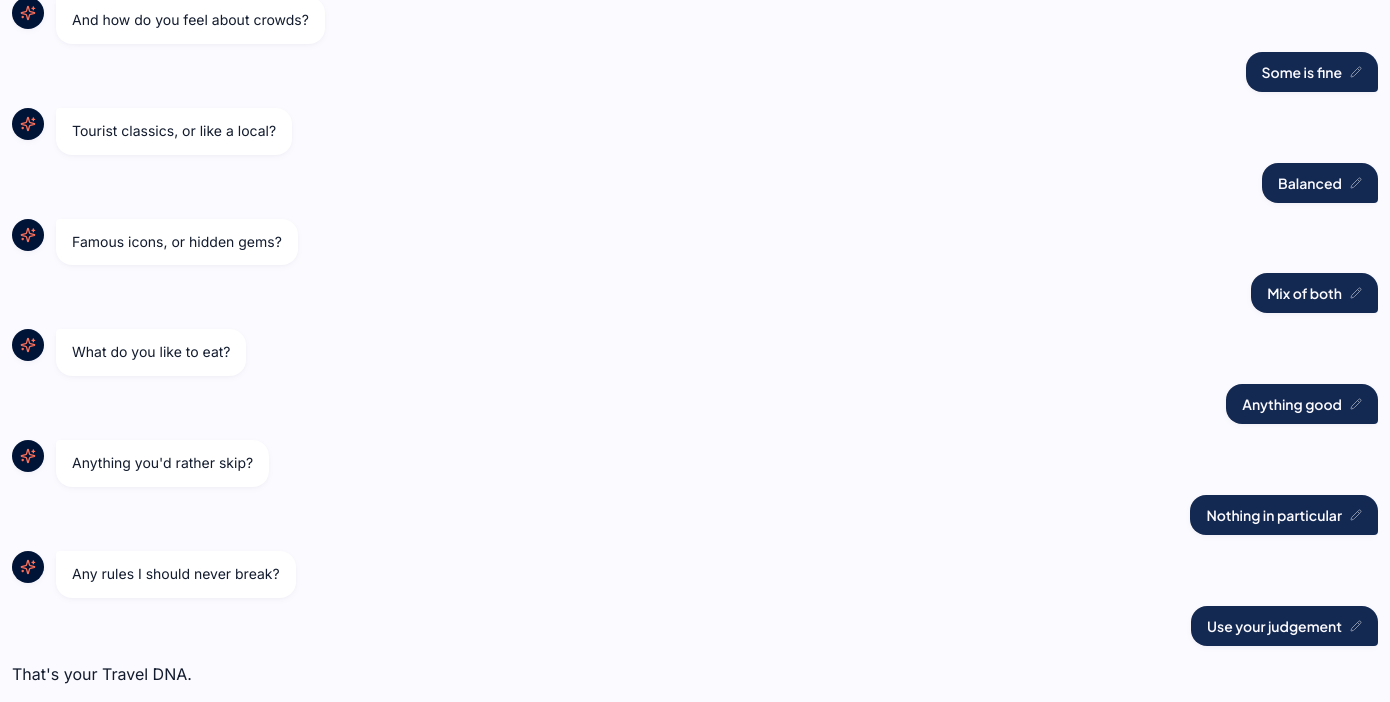
Scenario: DnaChat › still collects the hard rules the generator enforces
The image size is (1390, 702).
(page scrolled)
Note: Reach the rules question from the transcript rather than replaying.
Click the button with aria-label "Change your answer": (1284, 626) [1191,606,1378,646]
(page scrolled)
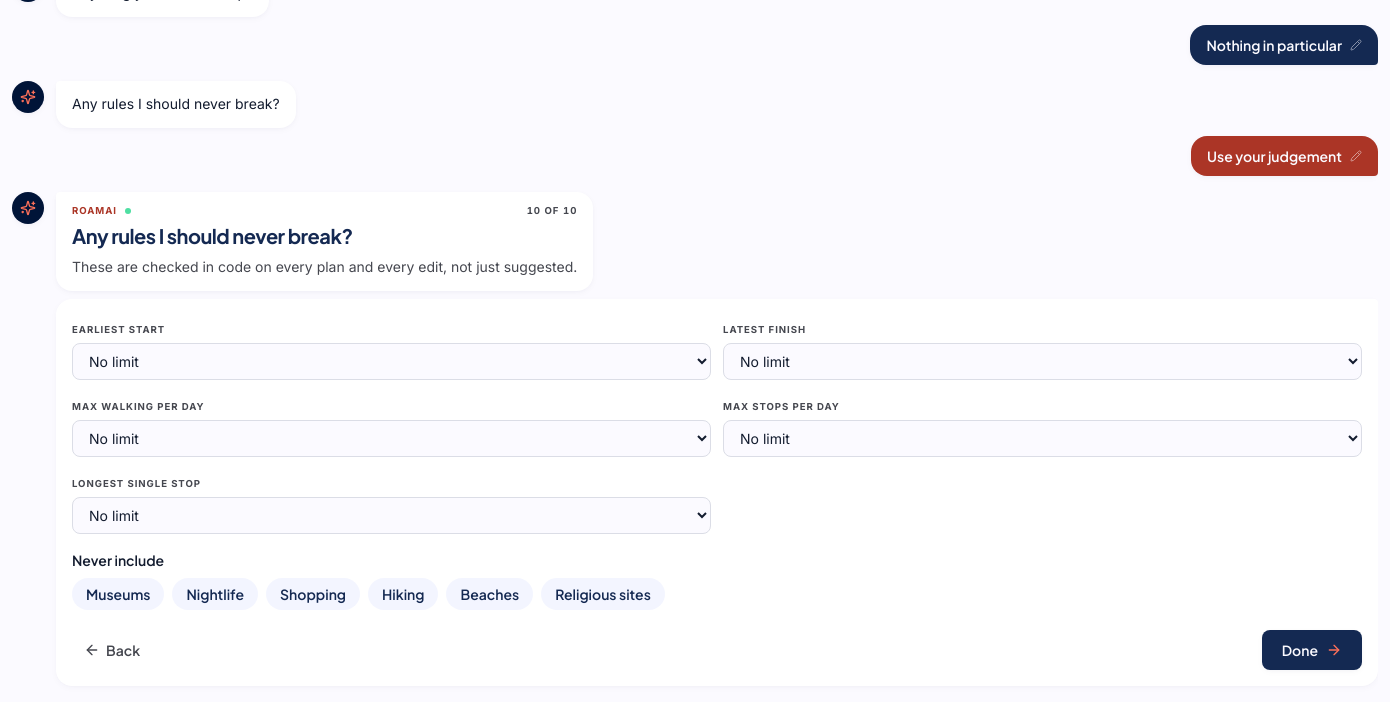
Result: the dropdown labelled "Earliest start" is shown at [72,343,711,380]
Result: the button "Museums" is shown at [72,578,164,610]
